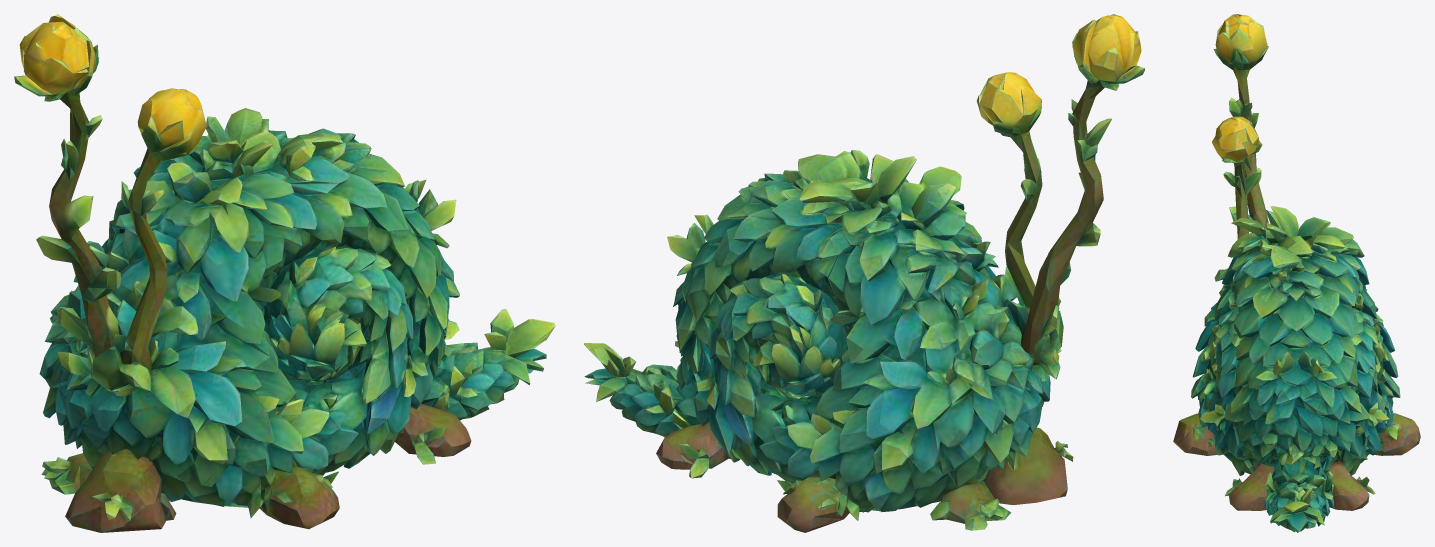
File: blossomback-tortoise.glb
The picture shows the model from 3 angles, left to right: view 1: azimuth 30°, elevation 25°; view 2: azimuth 150°, elevation 25°; view 3: azimuth 270°, elevation 25°; orthographic projection. The views are drawn at different scales.
Visible parts, largest first — view 1: output_unwrapped; view 2: output_unwrapped; view 3: output_unwrapped.
Part boxes in pixels (bbox=[...]): output_unwrapped: bbox=[14, 14, 555, 532]; output_unwrapped: bbox=[584, 14, 1144, 532]; output_unwrapped: bbox=[1173, 14, 1420, 532].
Bounding box in the file's own units: 1.91 × 1.66 × 1.04.
Materials: 1 (1 with a texture image).
